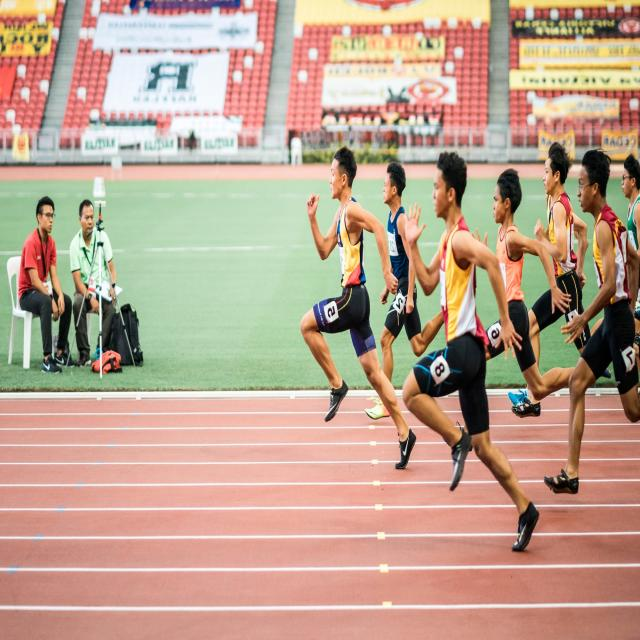adult: (402, 149, 540, 547), (298, 151, 418, 466), (545, 150, 640, 494), (515, 143, 594, 421), (479, 164, 569, 390), (366, 161, 443, 421), (620, 152, 640, 250)
